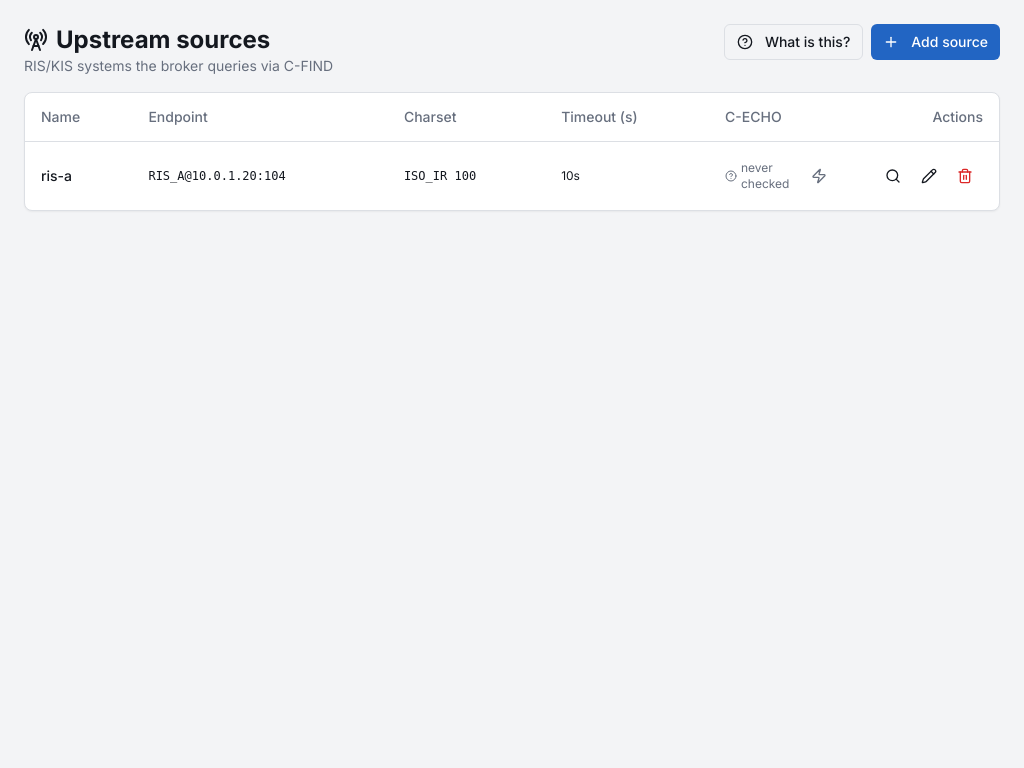
it: table rows open the edit dialog › opens the edit dialog when the row is clicked
The image size is (1024, 768).
Click the text "ris-a" at (57, 175), box [25, 141, 132, 210]
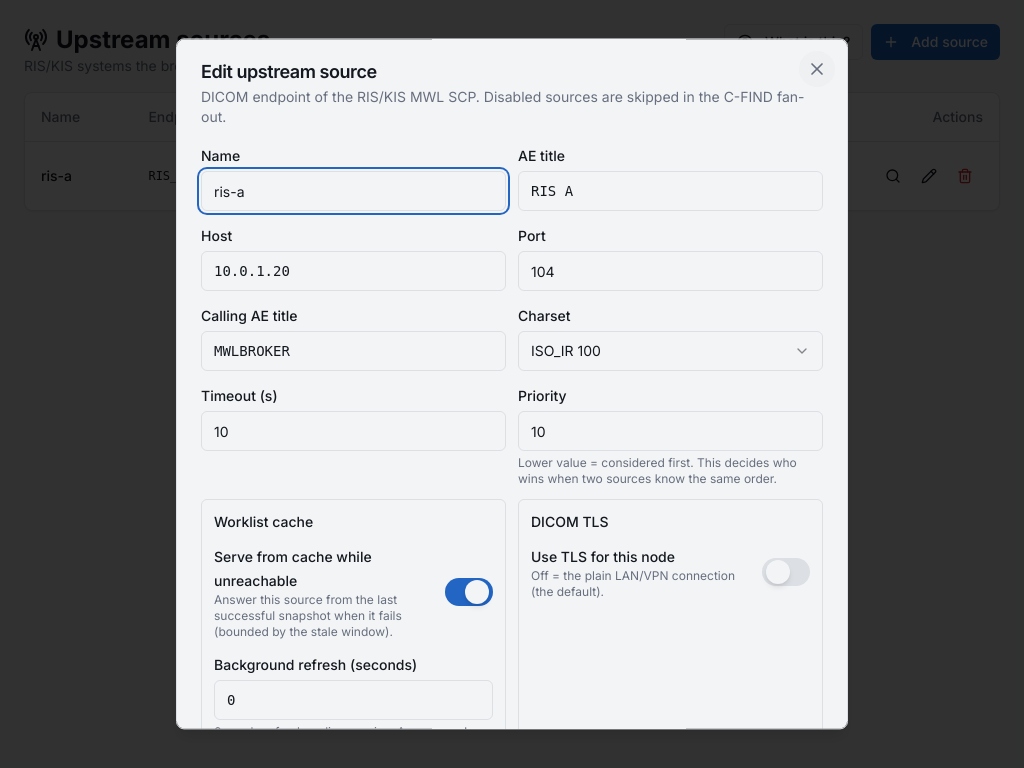
Expected: the field labelled "Name" holds "ris-a", [201, 171, 506, 211]
